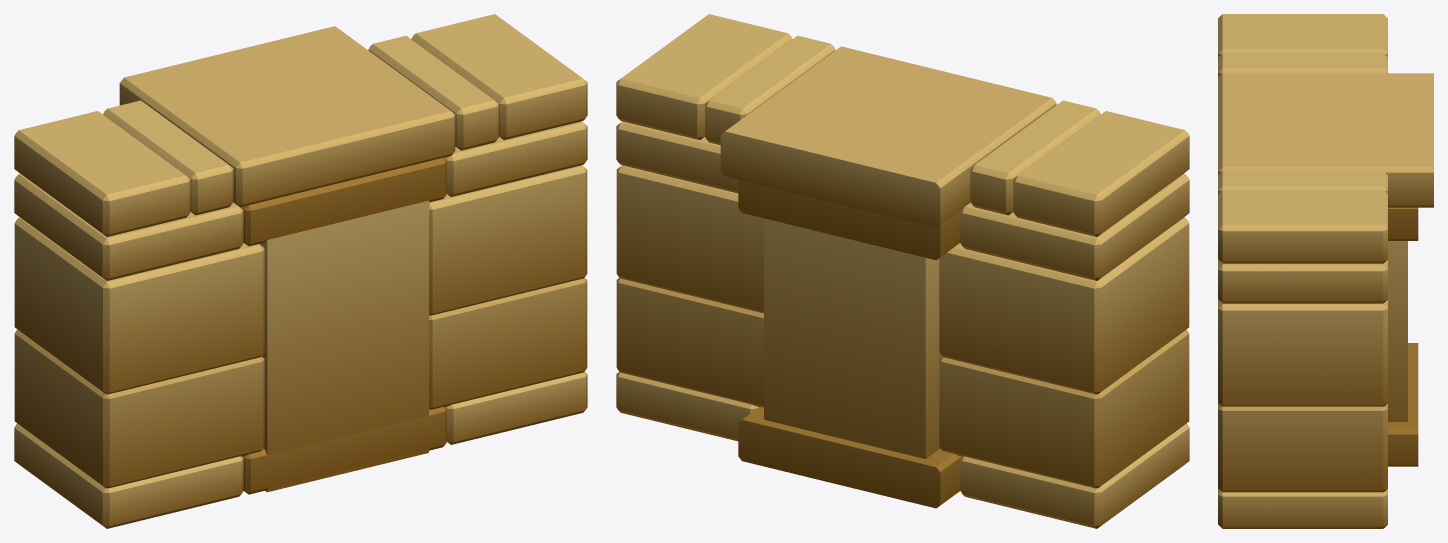
File: Enviroment__Wall_005.fbx
3 renders of one model, left to right at view 1: azimuth 30°, elevation 25°; view 2: azimuth 150°, elevation 25°; view 3: azimuth 270°, elevation 25°, orthographic. The views are drawn at different scales.
Visible parts, largest first — view 1: Cube.017, Cube.026, Cube.014, Cube.015, Cube.016, Cube.004; view 2: Cube.017, Cube.026, Cube.015, Cube.014, Cube.004, Cube.016; view 3: Cube.026, Cube.015, Cube.017, Cube.014, Cube.004, Cube.016.
Part boxes in pixels (<box>): Cube.017: <box>14,100,264,528</box>; Cube.026: <box>368,14,587,444</box>; Cube.014: <box>259,200,428,492</box>; Cube.015: <box>119,26,455,207</box>; Cube.016: <box>240,158,446,246</box>; Cube.004: <box>242,407,446,494</box>; Cube.017: <box>939,100,1189,528</box>; Cube.026: <box>616,14,835,441</box>; Cube.015: <box>720,46,1056,227</box>; Cube.014: <box>764,218,941,458</box>; Cube.004: <box>738,406,961,508</box>; Cube.016: <box>738,179,960,260</box>; Cube.026: <box>1218,171,1387,528</box>; Cube.015: <box>1218,73,1433,207</box>; Cube.017: <box>1218,14,1387,76</box>; Cube.014: <box>1388,241,1407,421</box>; Cube.004: <box>1388,343,1418,466</box>; Cube.016: <box>1388,207,1418,240</box>.
Size of the model in its own units: 60 by 39.49 by 25.42.
